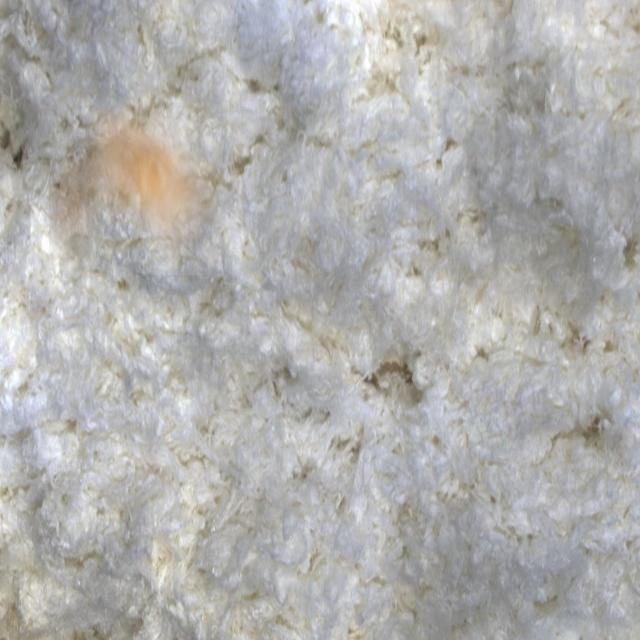dust: (49, 106, 225, 275)
